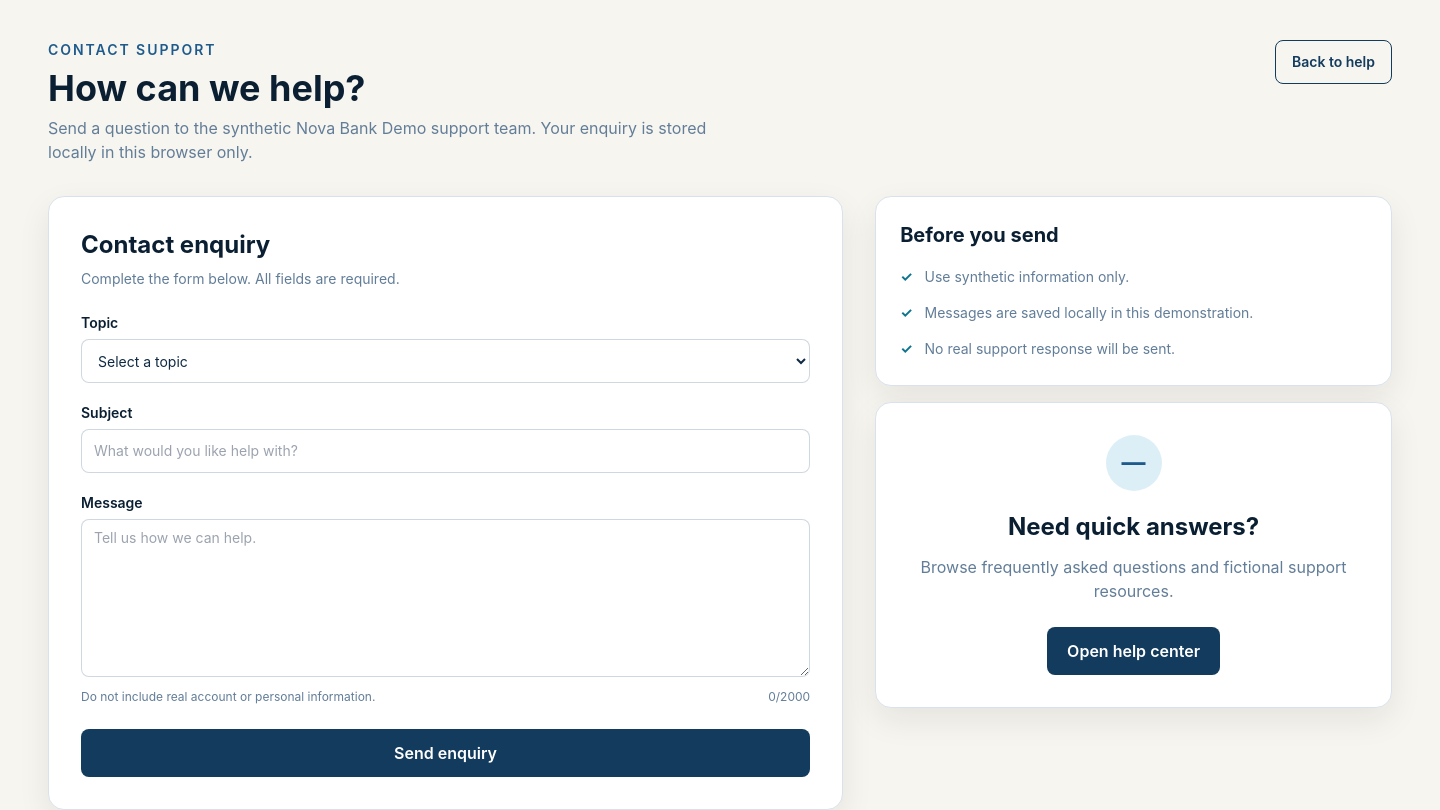
Test: ContactPage › rejects messages shorter than the minimum length and keeps the form available
The image size is (1440, 810).
Select "Accounts" in the dropdown labelled "Topic" at (446, 361), box [81,339,810,383]
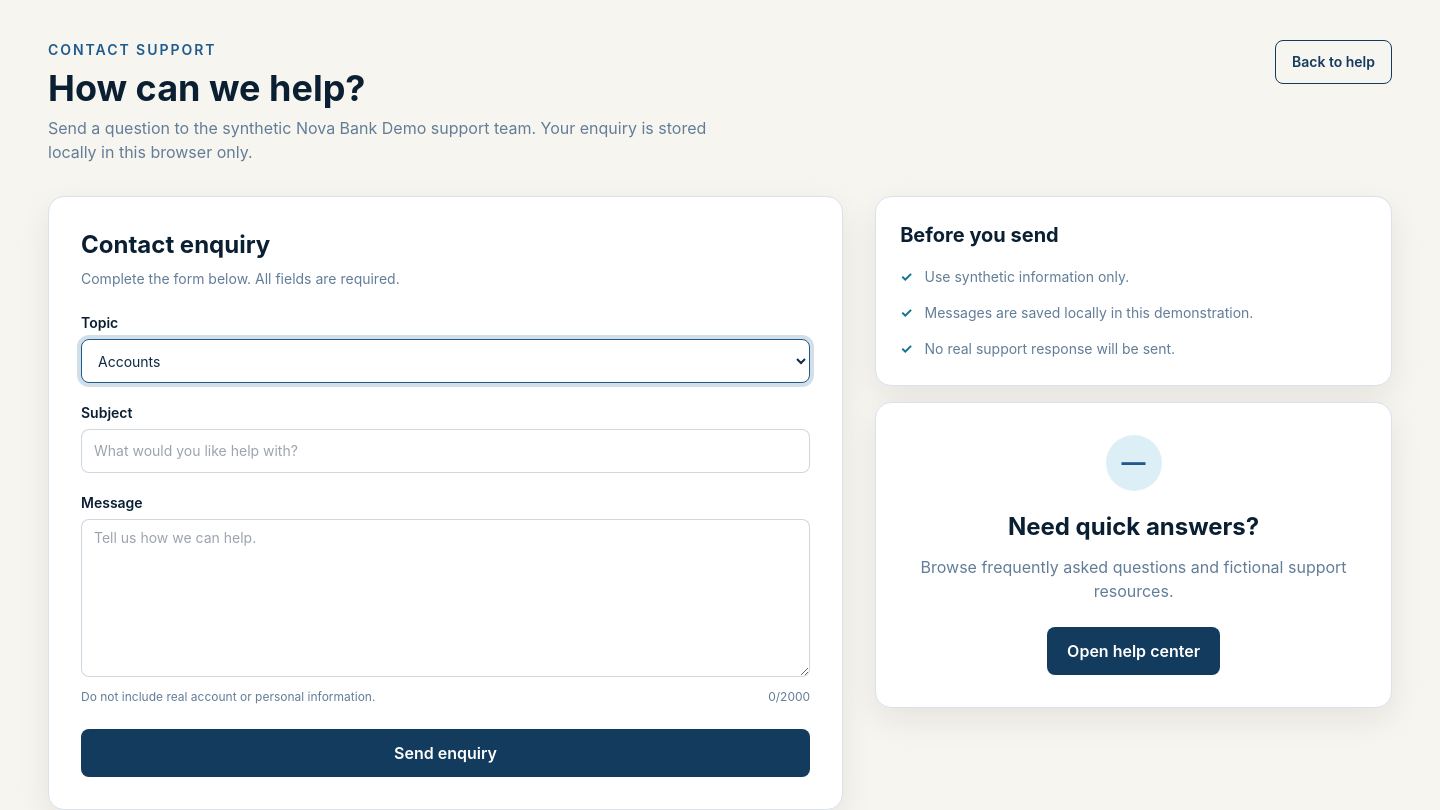
Type "Account question" into the field labelled "Subject" at (446, 451), box [81,429,810,473]
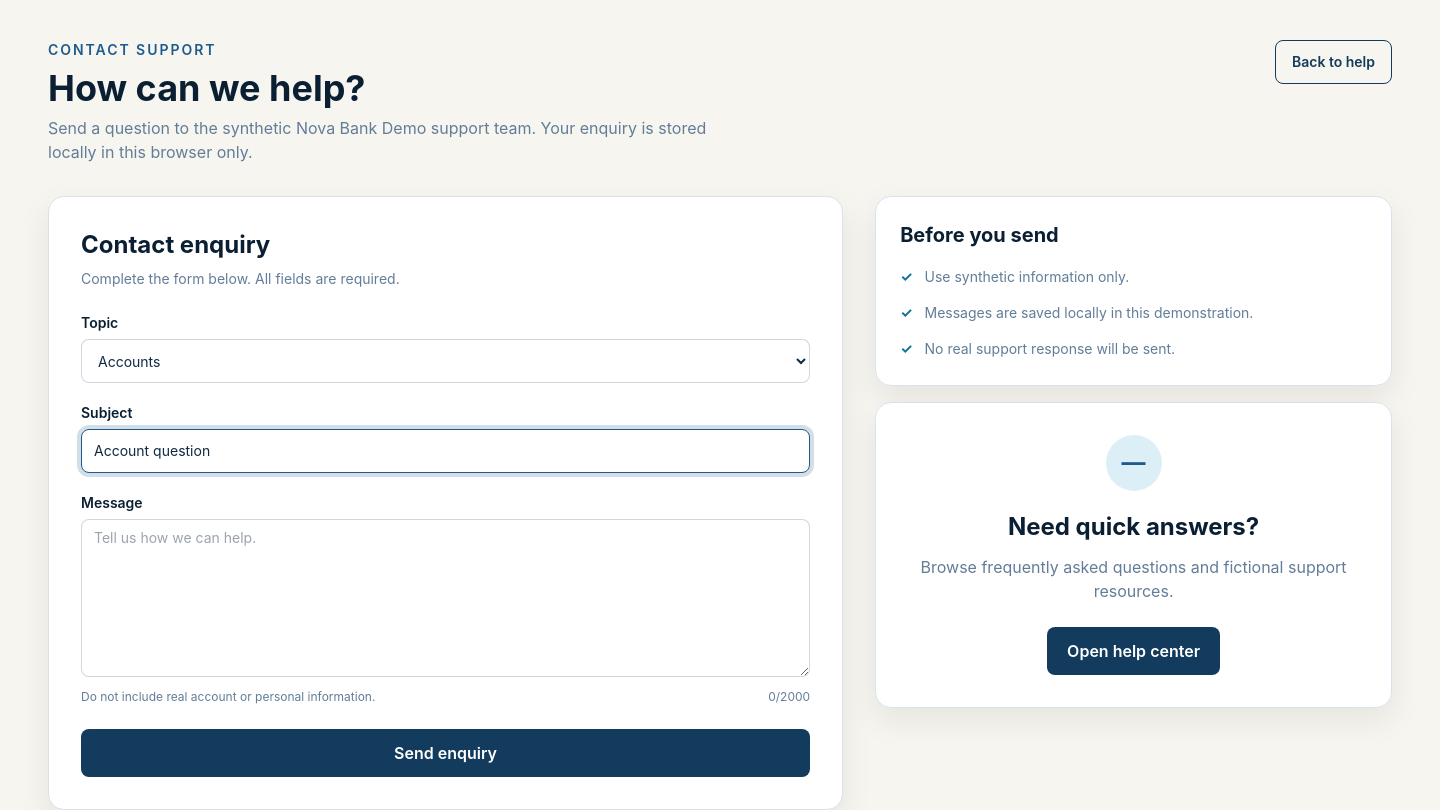
Type "Too short" into the text box labelled "Message" at (446, 598), box [81,519,810,677]
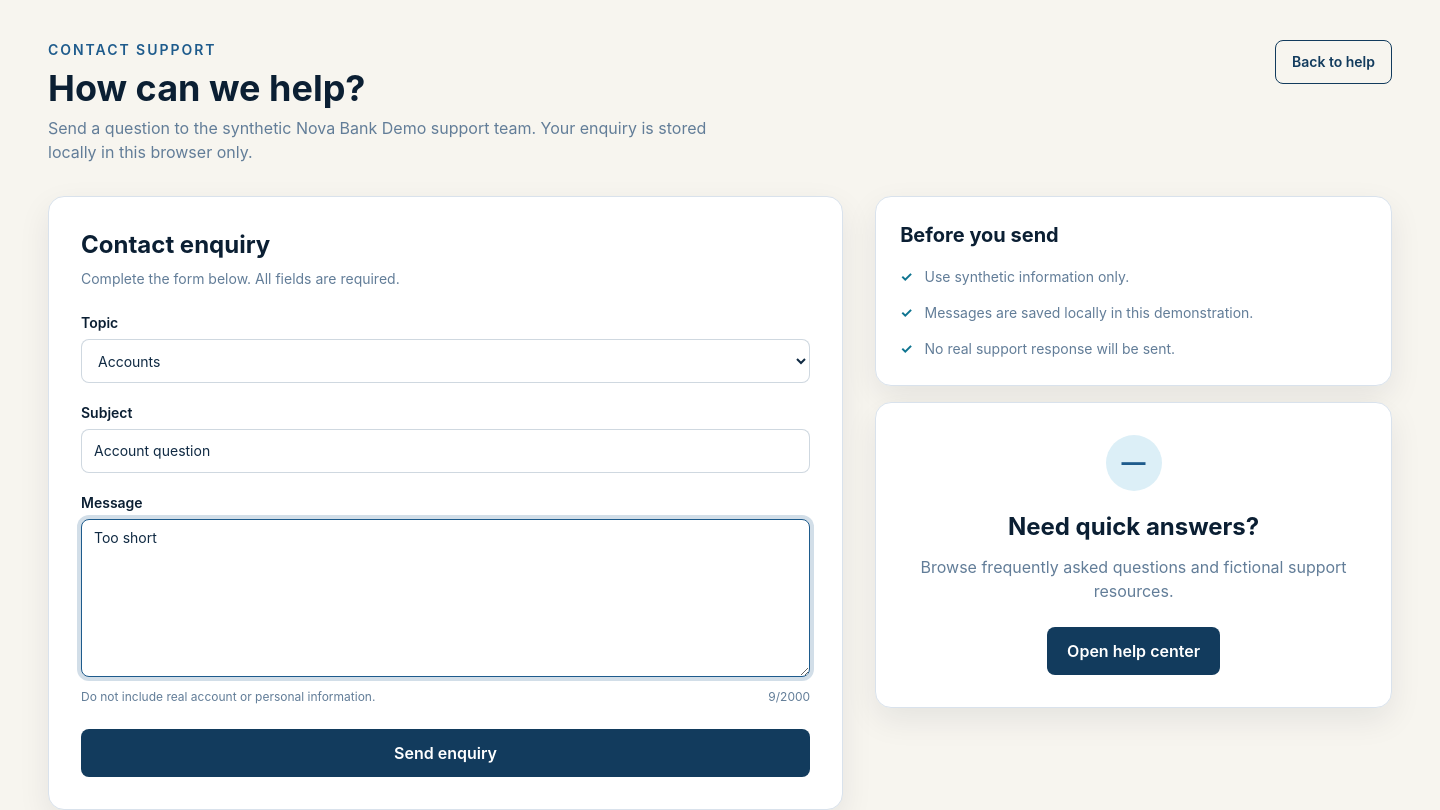
Click the button "Send enquiry" at (446, 753), box [81,729,810,777]
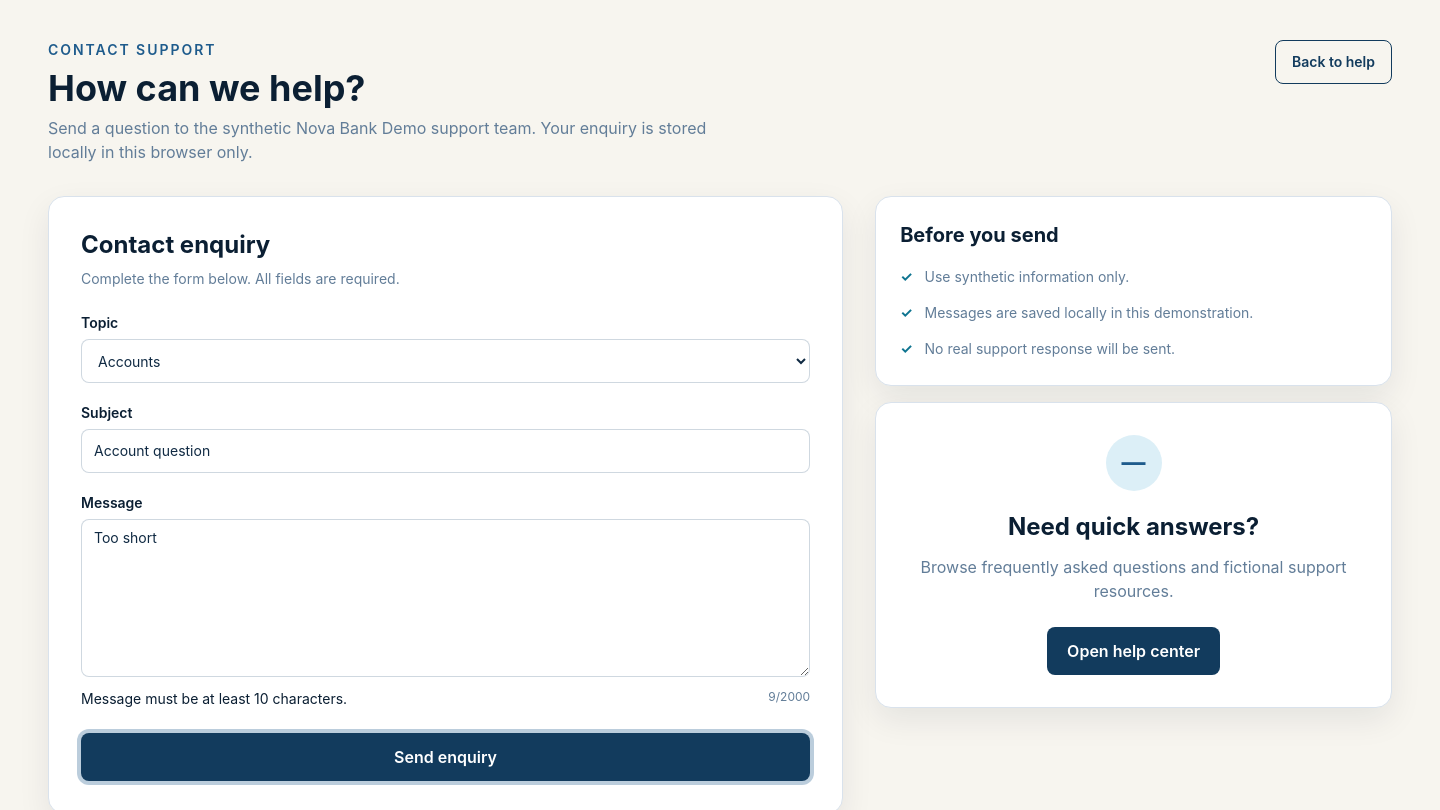
Now the text "Message must be at least 10 characters." is shown, box [81,689,347,709]
